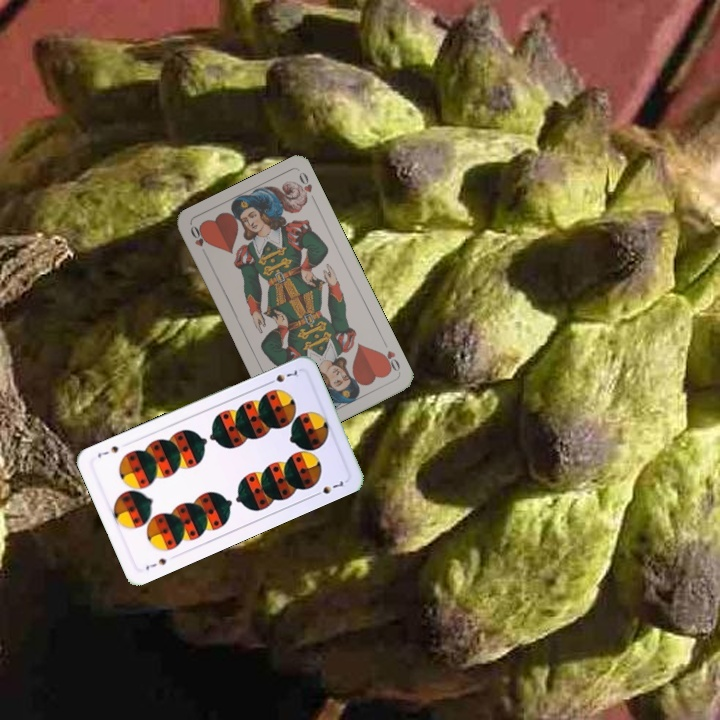HO: (186, 221, 210, 260), (377, 346, 403, 375)
S7: (263, 366, 301, 387), (141, 554, 169, 573)
